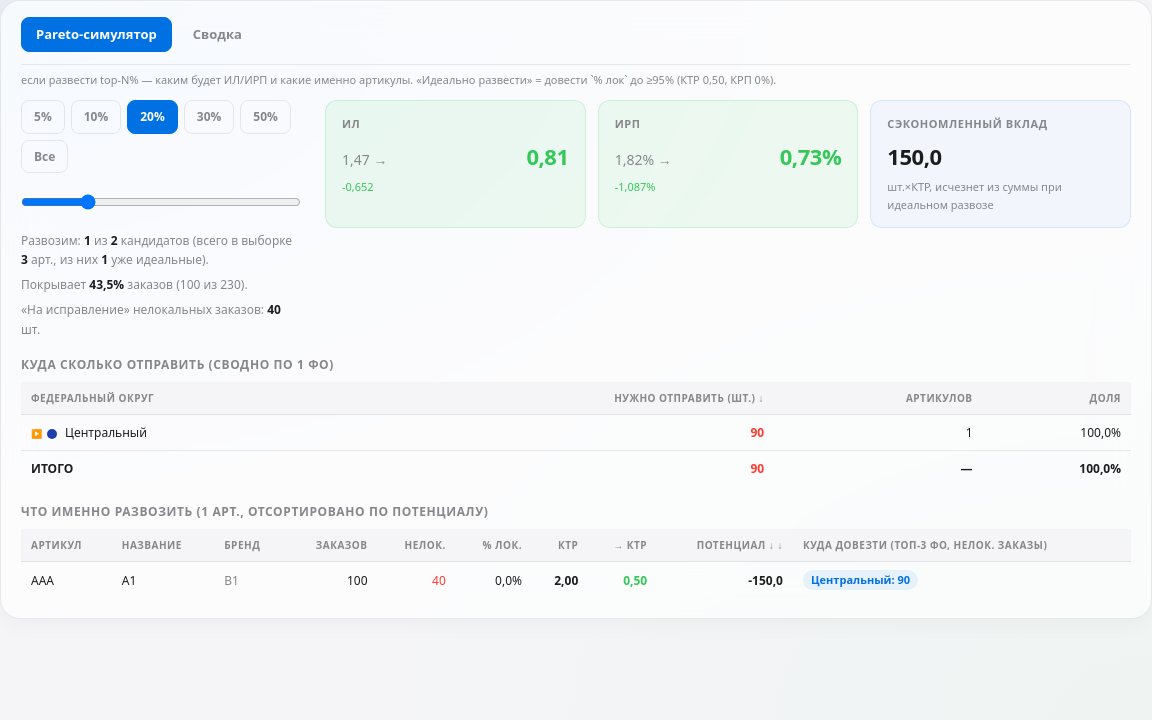
Test: <LocalizationInsights /> › Pareto-симулятор показывает chip-распределение «куда довезти»
The image size is (1152, 720).
Берём всех кандидатов чтобы видеть и AAA и CCC.
Click the button "Все". click: coordinates (45, 156)
box: [21, 140, 68, 173]
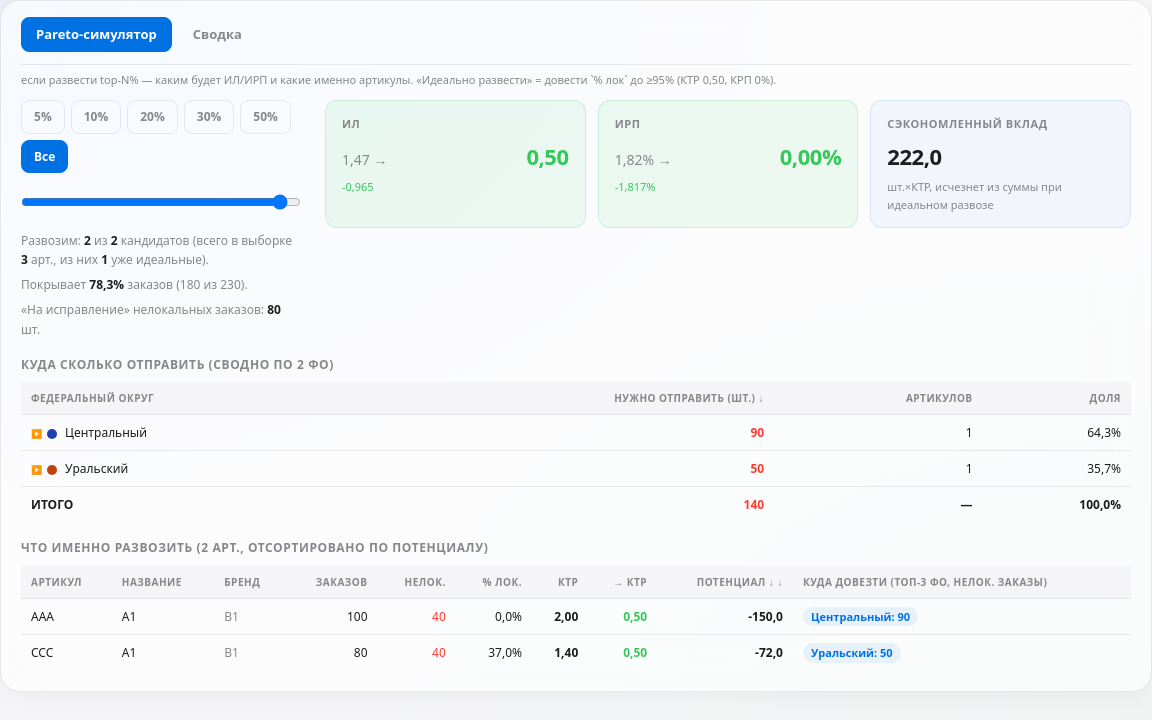
Expected: the text "Центральный: 90" is shown, [803, 607, 918, 626]
Expected: the text "Уральский: 50" is shown, [803, 643, 901, 663]
